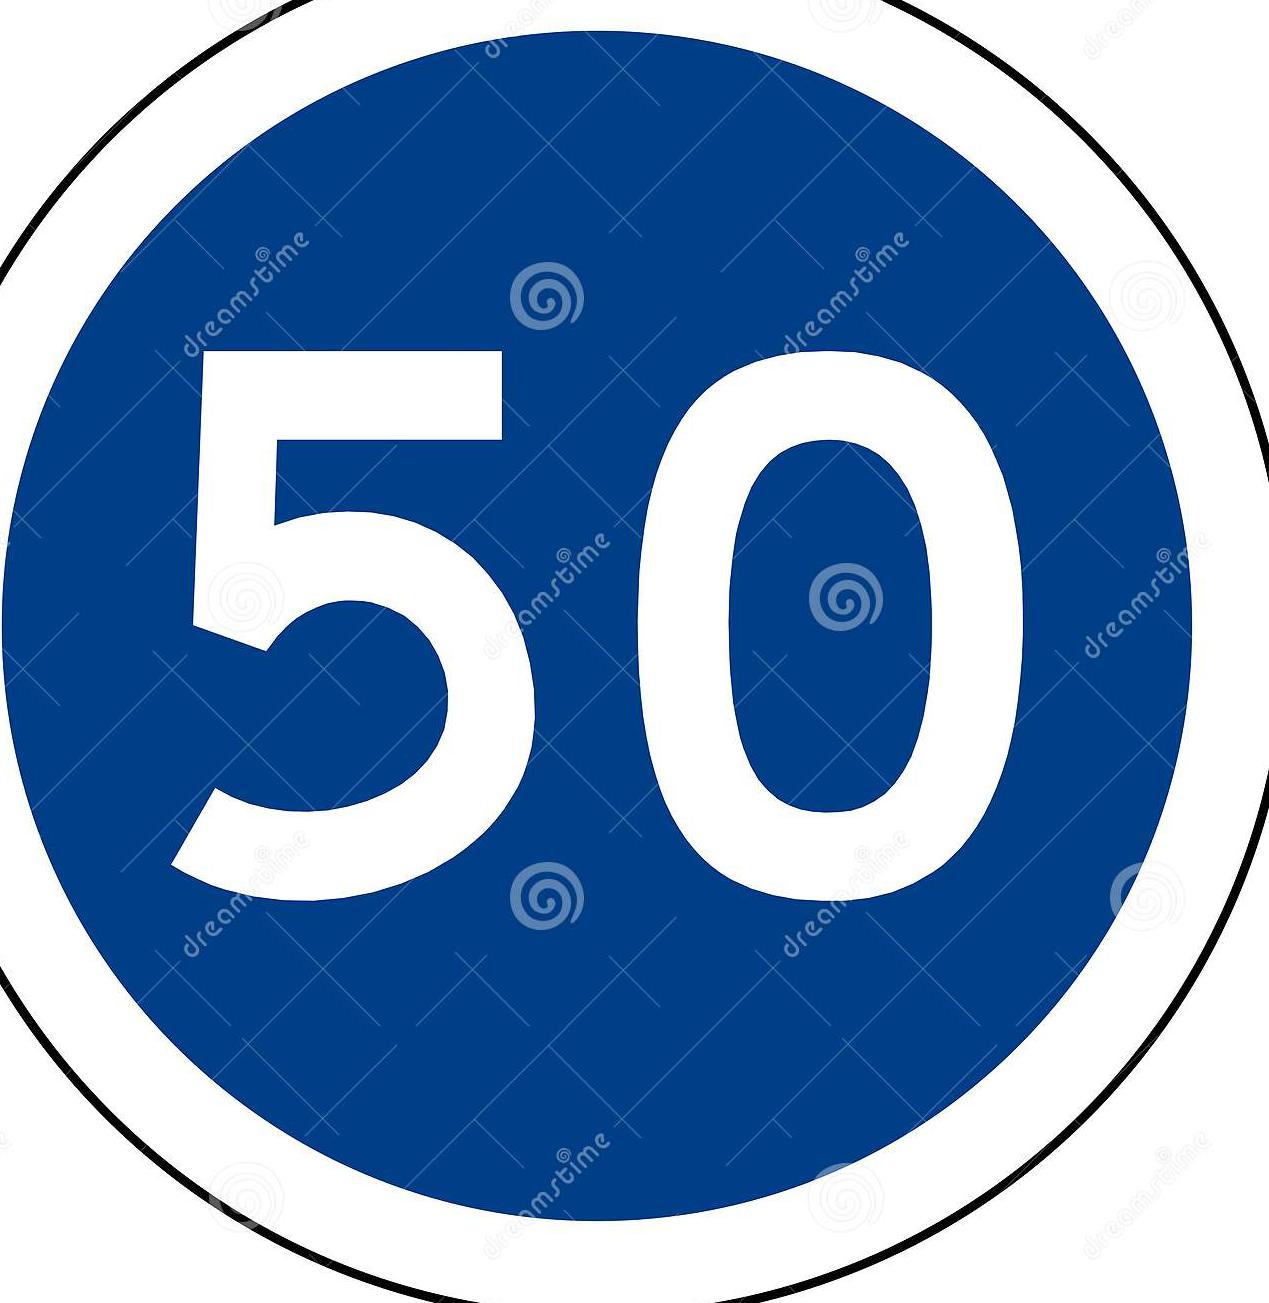Speed Limit -50-: (0, 1, 1268, 1302)
